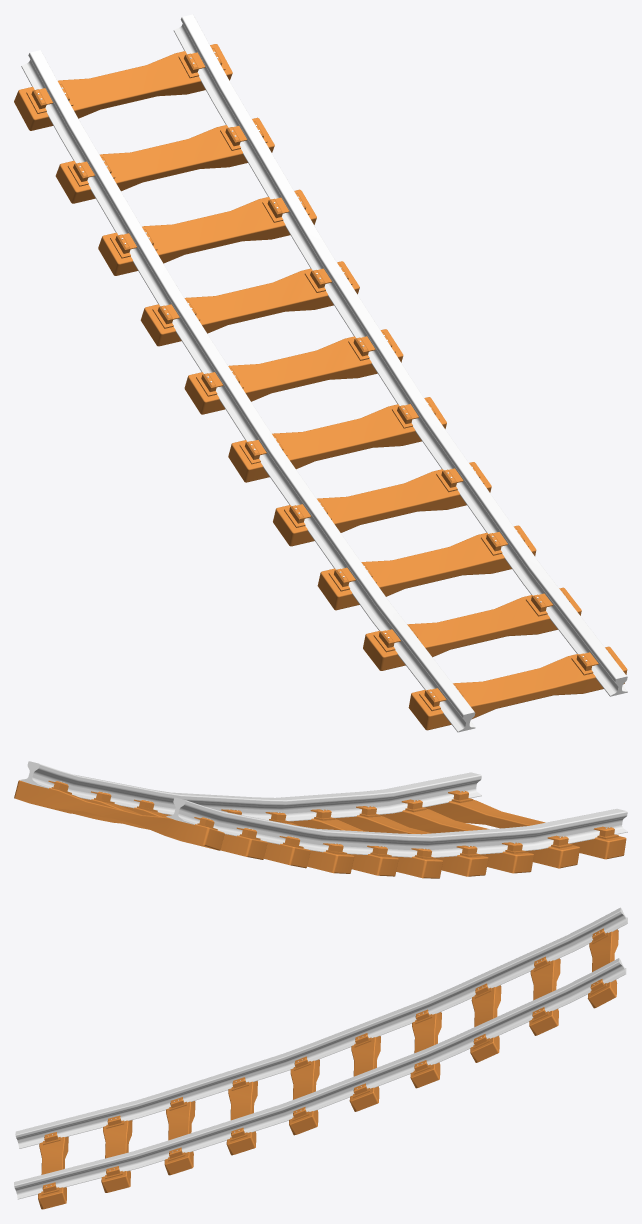
3 views of the same model, one above another, from view 1: azimuth 30°, elevation 25°; view 2: azimuth 150°, elevation 25°; view 3: azimuth 270°, elevation 25° (orthographic). The views are drawn at different scales.
Parts seen in each view (by area): view 1: 立方体, 立方体_1_9, 立方体_1_7, 立方体_1_8, 立方体_1_5, 立方体_1_4, 立方体_1_6, 立方体_1_2, 立方体_1_3, 立方体_1_0, 立方体_1_1; view 2: 立方体, 立方体_1_9, 立方体_1_0, 立方体_1_1, 立方体_1_2, 立方体_1_3, 立方体_1_8, 立方体_1_7, 立方体_1_4, 立方体_1_5, 立方体_1_6; view 3: 立方体, 立方体_1_3, 立方体_1_6, 立方体_1_1, 立方体_1_0, 立方体_1_2, 立方体_1_8, 立方体_1_5, 立方体_1_7, 立方体_1_4, 立方体_1_9.
Part boxes in pixels (x1,y1,x2,y2): 立方体: [21, 14, 627, 732]; 立方体_1_9: [14, 44, 232, 130]; 立方体_1_7: [98, 189, 316, 275]; 立方体_1_8: [55, 117, 274, 203]; 立方体_1_5: [184, 329, 403, 414]; 立方体_1_4: [228, 397, 446, 482]; 立方体_1_6: [140, 261, 359, 346]; 立方体_1_2: [317, 525, 536, 610]; 立方体_1_3: [273, 462, 491, 546]; 立方体_1_0: [408, 646, 627, 730]; 立方体_1_1: [363, 587, 581, 670]; 立方体: [20, 761, 627, 857]; 立方体_1_9: [14, 780, 224, 850]; 立方体_1_0: [424, 790, 626, 859]; 立方体_1_1: [380, 799, 579, 868]; 立方体_1_2: [335, 806, 533, 873]; 立方体_1_3: [290, 809, 488, 876]; 立方体_1_8: [75, 791, 267, 859]; 立方体_1_7: [120, 799, 310, 868]; 立方体_1_4: [265, 812, 442, 878]; 立方体_1_5: [221, 809, 398, 876]; 立方体_1_6: [164, 814, 354, 873]; 立方体: [14, 907, 627, 1199]; 立方体_1_3: [226, 1077, 257, 1155]; 立方体_1_6: [410, 1009, 441, 1088]; 立方体_1_1: [101, 1115, 132, 1192]; 立方体_1_0: [38, 1132, 68, 1209]; 立方体_1_2: [164, 1097, 195, 1175]; 立方体_1_8: [529, 956, 560, 1035]; 立方体_1_5: [349, 1033, 380, 1111]; 立方体_1_7: [470, 983, 501, 1062]; 立方体_1_4: [289, 1056, 319, 1135]; 立方体_1_9: [587, 928, 618, 1008].
Bounding box in the file's own units: 499 × 829 × 1875.
